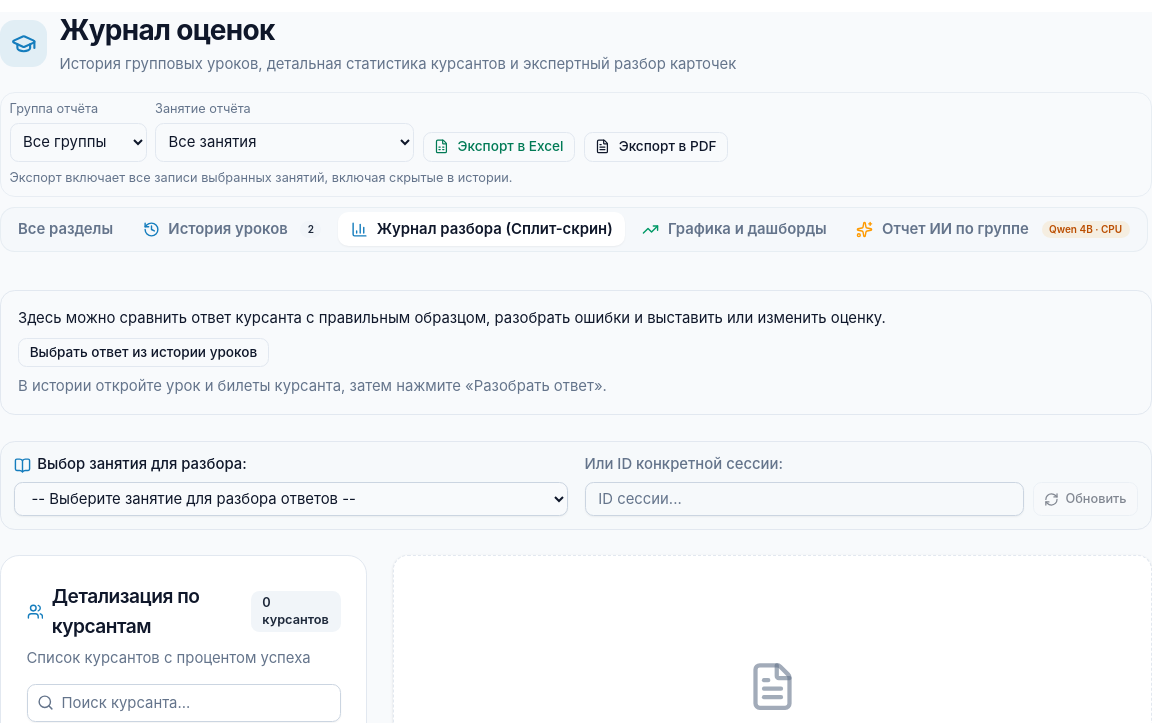
Scenario: FIX-08: Split screen lesson selection and cadets roster › displays authorization error when lesson is forbidden for this teacher
Select "Группа 101-П — Занятие (Завершён)" in the dropdown named "выбор урока" at (291, 499), box [14, 482, 568, 516]
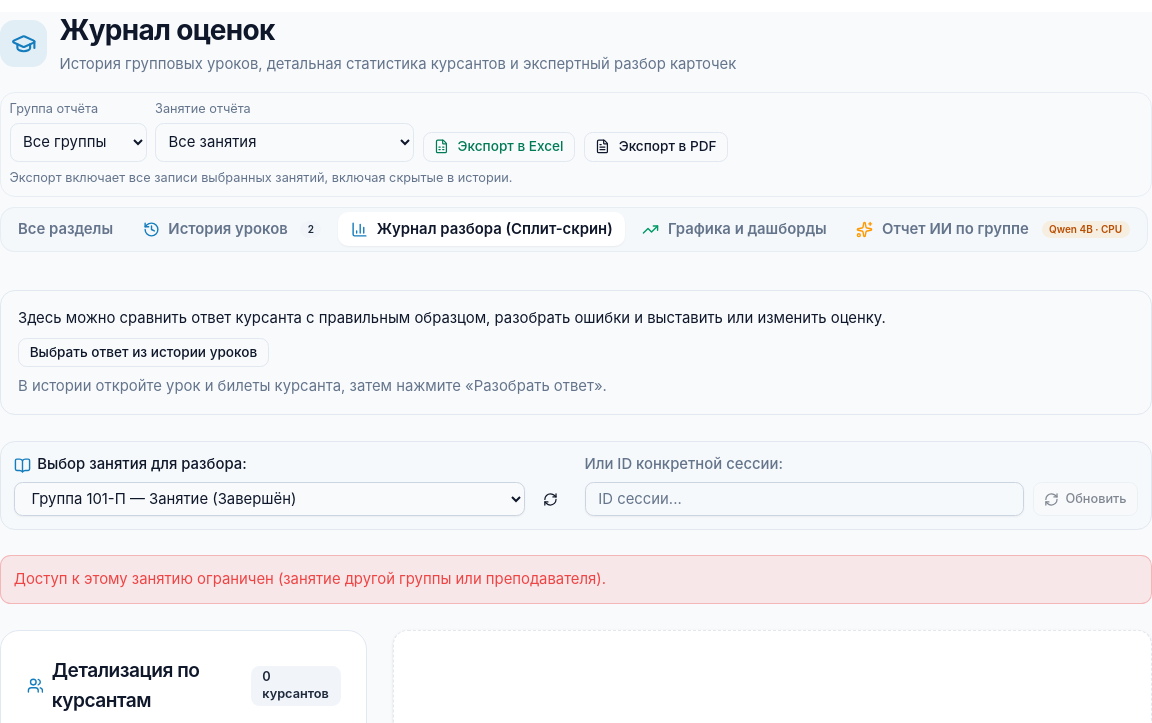
Now the message shows "Доступ к этому занятию ограничен", box [14, 570, 606, 588]
